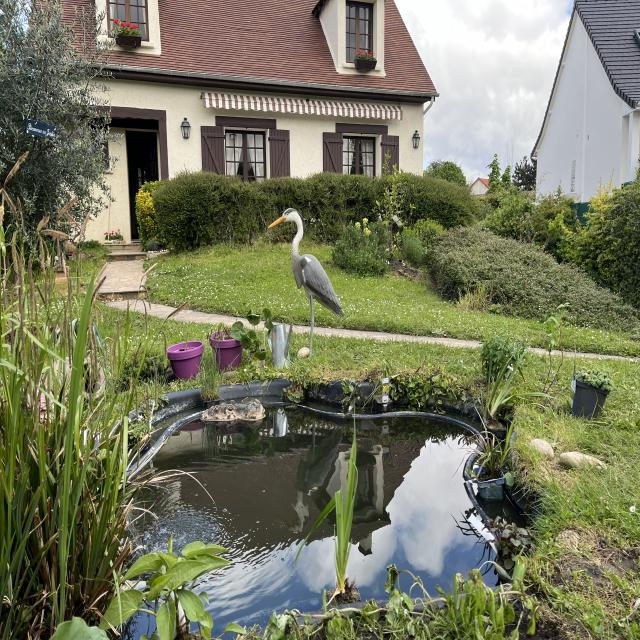Heron: (267, 200, 346, 368)
